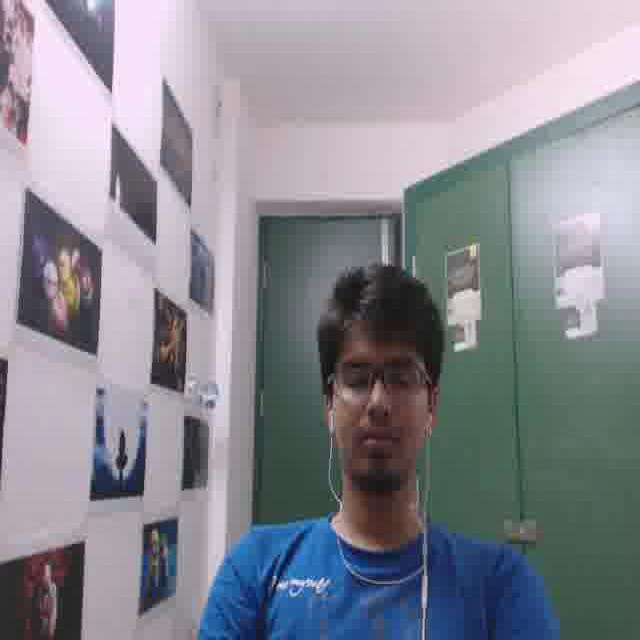Boredom: (334, 321, 428, 475)
